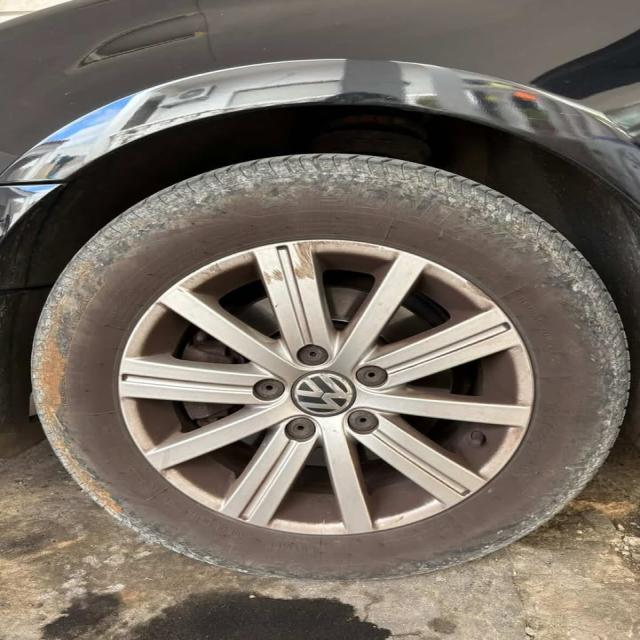jante: (118, 240, 538, 538)
parafuso: (279, 413, 319, 443), (291, 339, 332, 368), (345, 406, 383, 437), (249, 375, 288, 405), (353, 362, 390, 392)
roda: (30, 151, 635, 585)
